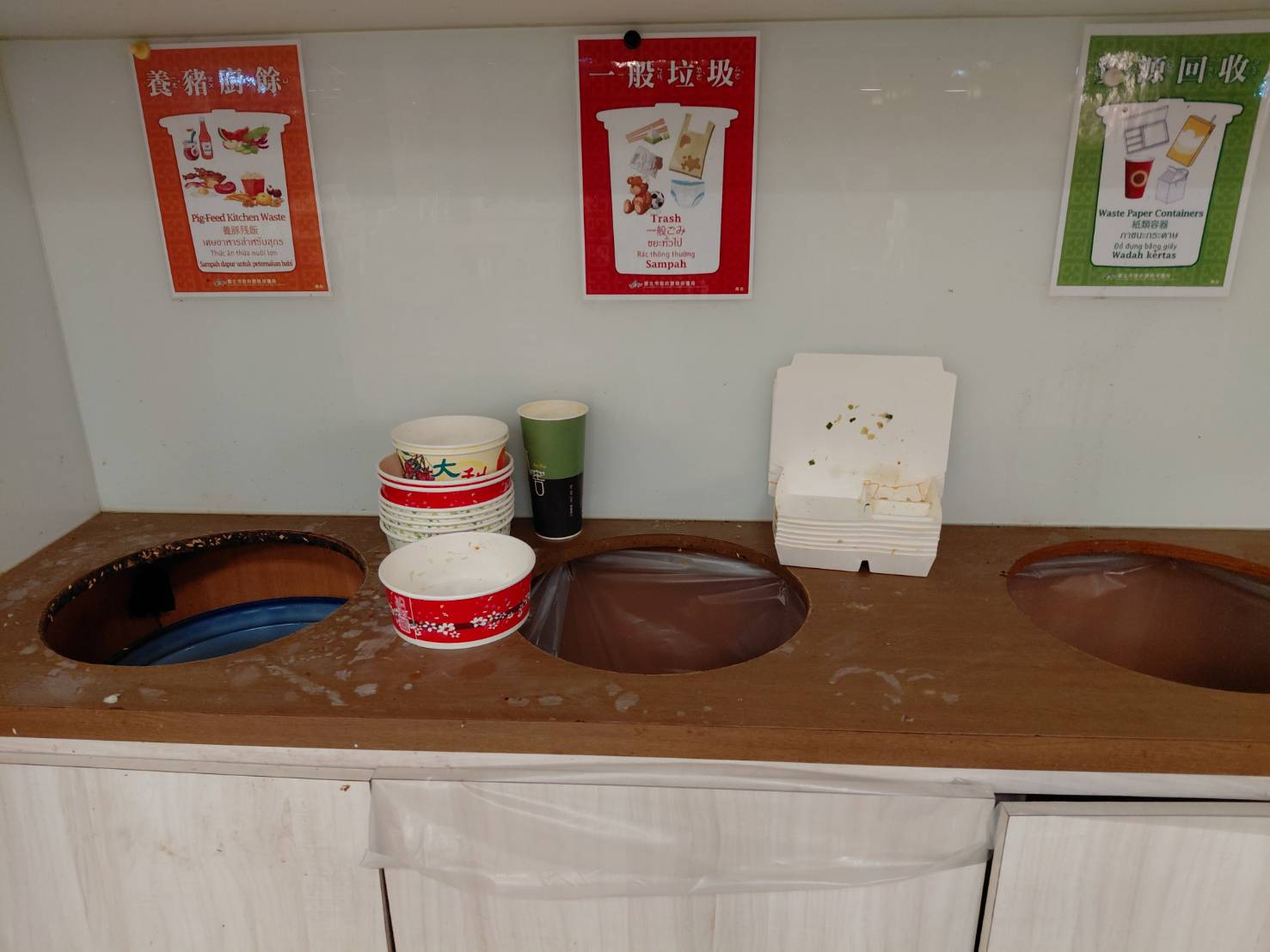paper: (749, 300, 991, 614), (354, 523, 565, 690), (353, 380, 527, 546), (510, 371, 615, 549)
